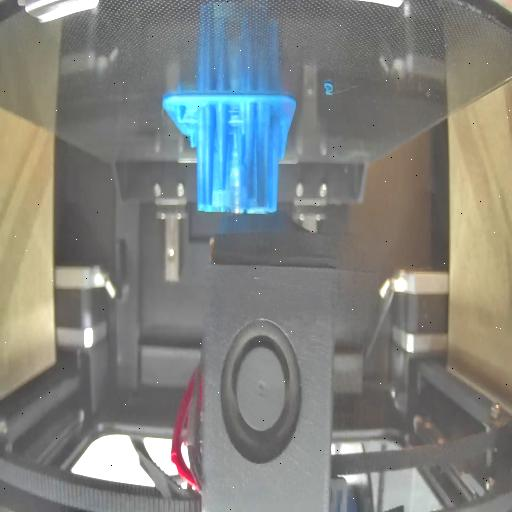stringing: (214, 188, 258, 214), (228, 104, 244, 132), (178, 110, 196, 128)
